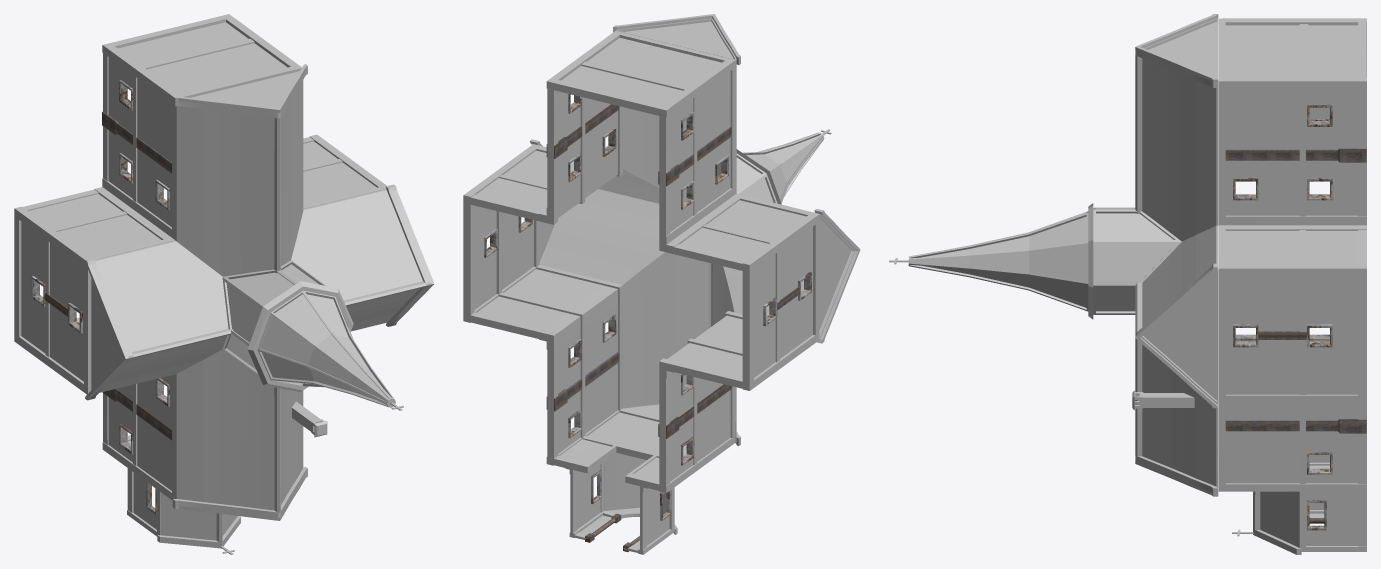
Rendered from Church.fbx.
The picture shows the model from 3 angles, left to right: view 1: azimuth 30°, elevation 25°; view 2: azimuth 150°, elevation 25°; view 3: azimuth 270°, elevation 25°; orthographic projection. The views are drawn at different scales.
Visible parts, largest first — view 1: Roof, Base, Object001; view 2: Base, Roof, Object001; view 3: Base, Roof, Object001.
Part boxes in pixels (left/top/right/bottom): Roof: left=85, top=64, right=434, bottom=554; Base: left=14, top=14, right=386, bottom=536; Object001: left=31, top=80, right=171, bottom=514; Base: left=463, top=31, right=818, bottom=554; Roof: left=530, top=14, right=860, bottom=534; Object001: left=484, top=94, right=811, bottom=551; Base: left=1219, top=18, right=1366, bottom=551; Roof: left=889, top=14, right=1301, bottom=554; Object001: left=1225, top=104, right=1366, bottom=530.
Bounding box in the file's own units: 1243 × 1850 × 1641.
